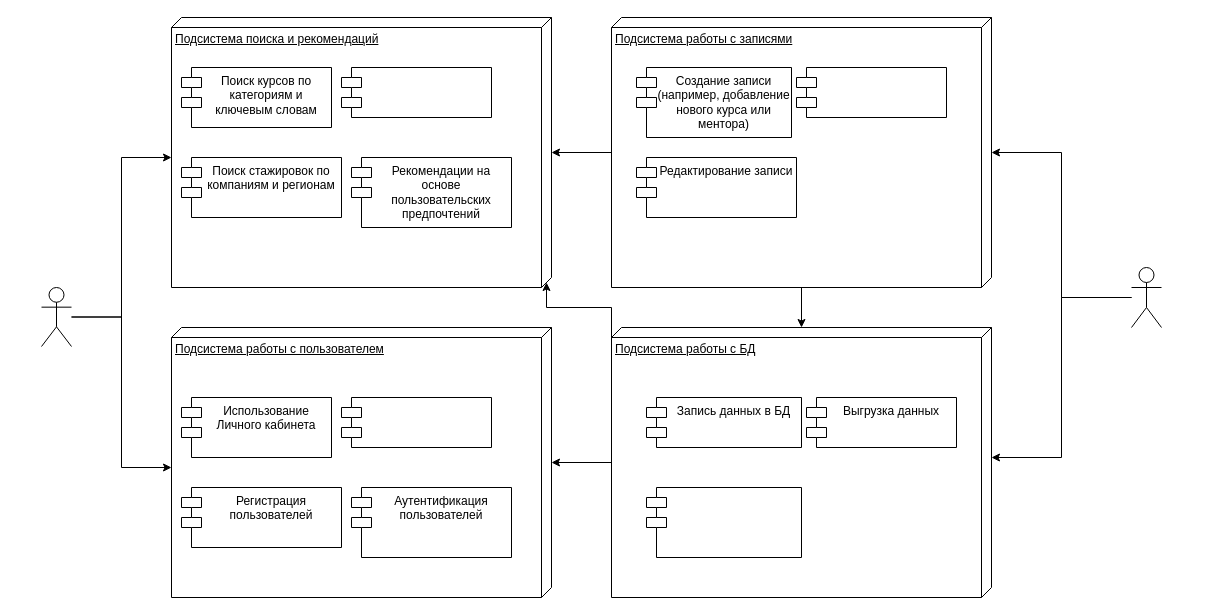
Image size: 1207x615. Some labels were removed from this diagram. Each missing label, with the centre of its shape:
Авторизация пользователей: (416,422)
Администратор: (1146,297)
Графическое отображение данных (например, рейтинги курсов, менторов): (724,522)
Поиск менторов по специализациям: (416,92)
Пользователь: (56,316)
Удаление записи: (871,92)
